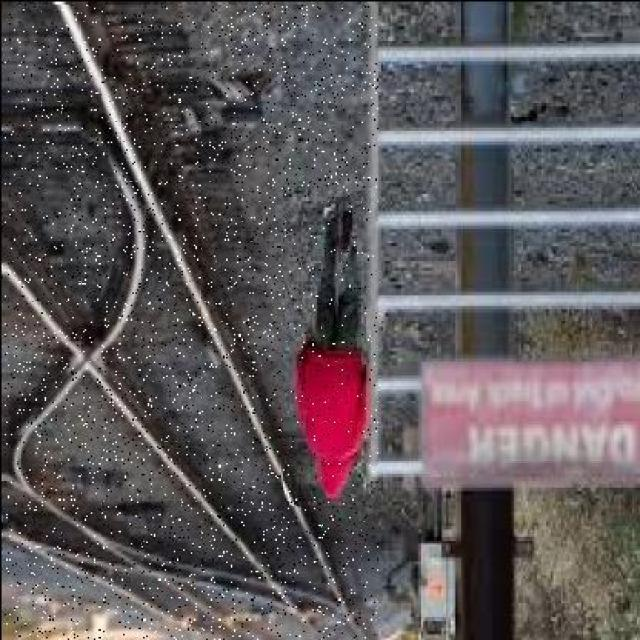danger: (282, 188, 375, 504)
rail: (3, 3, 376, 640)
